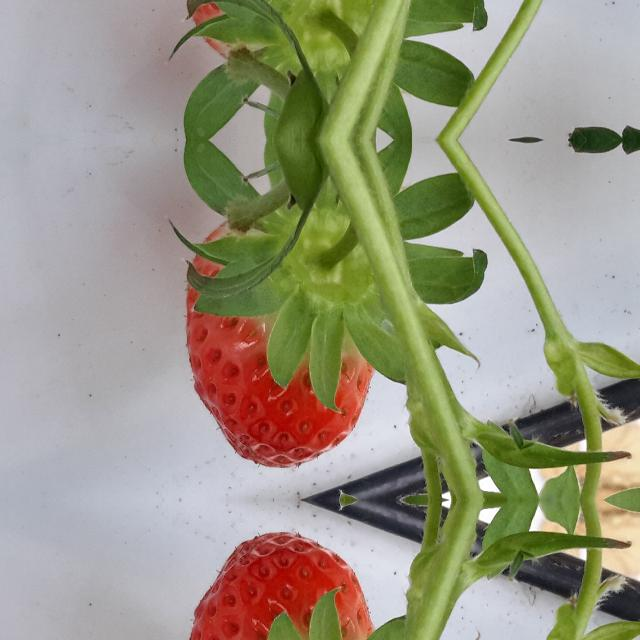Health_100: (182, 220, 374, 468), (182, 532, 373, 640), (182, 0, 373, 59)
